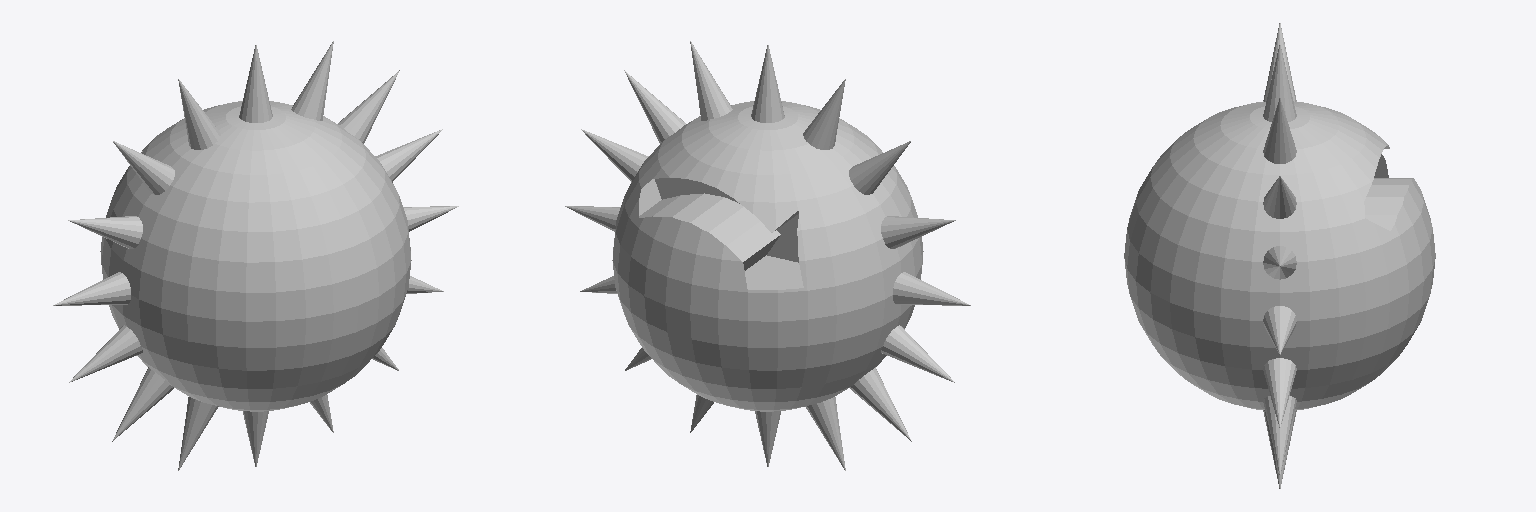
The model's file is SpikeBall.obj.
3 renders of one model, left to right at view 1: azimuth 30°, elevation 25°; view 2: azimuth 150°, elevation 25°; view 3: azimuth 270°, elevation 25°, orthographic.
Parts seen in each view (by area): view 1: Sphere_Sphere.001; view 2: Sphere_Sphere.001; view 3: Sphere_Sphere.001.
Boxes of the visible parts, box(x1,y1,x2,y2) form: Sphere_Sphere.001: box(53, 41, 458, 470); Sphere_Sphere.001: box(565, 41, 970, 470); Sphere_Sphere.001: box(1124, 23, 1435, 488).
Size of the model in its own units: 0.4835 by 0.4835 by 0.32.